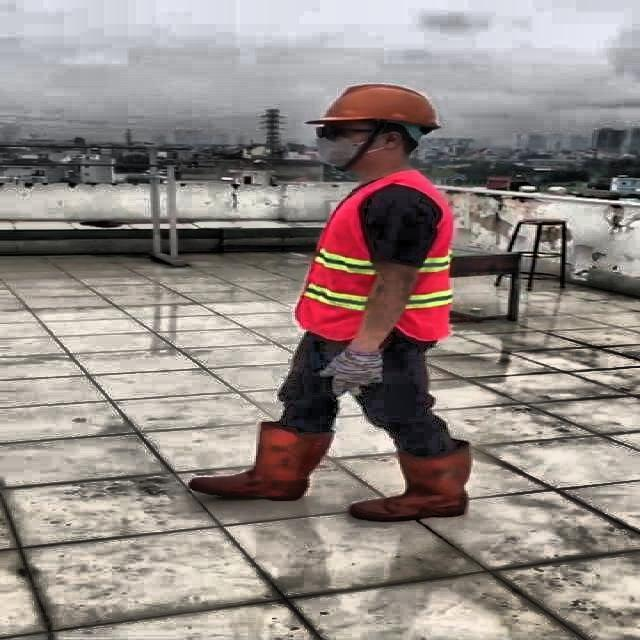safety_helmet: (305, 82, 448, 131)
safety_jacket: (292, 172, 449, 340)
